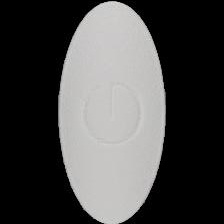21695-321: (0, 0, 224, 224)
